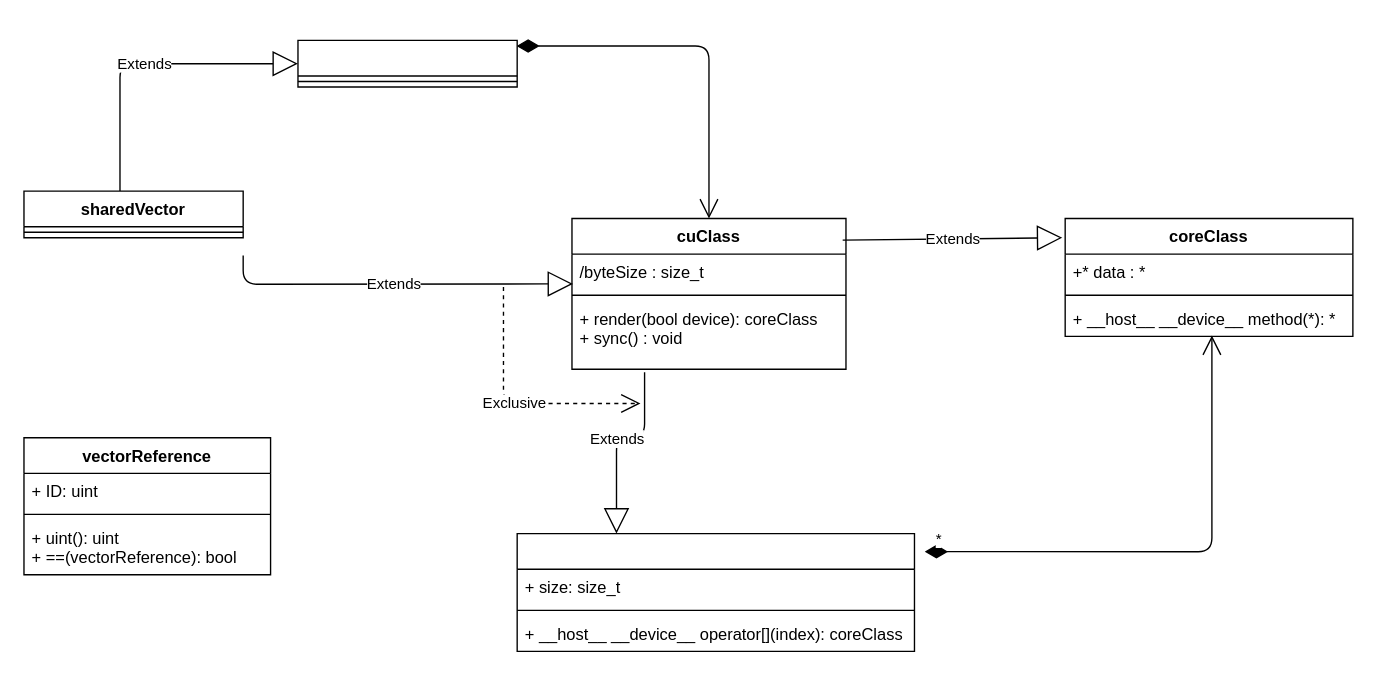
The diagram is 1377 pixels wide and 680 high, and some of its shapes have lost their labels. Here are the shapes that lost their labels. From the top down, the box of each, then its label:
(297, 39, 517, 87): std::vector
(516, 532, 914, 651): cuVector
